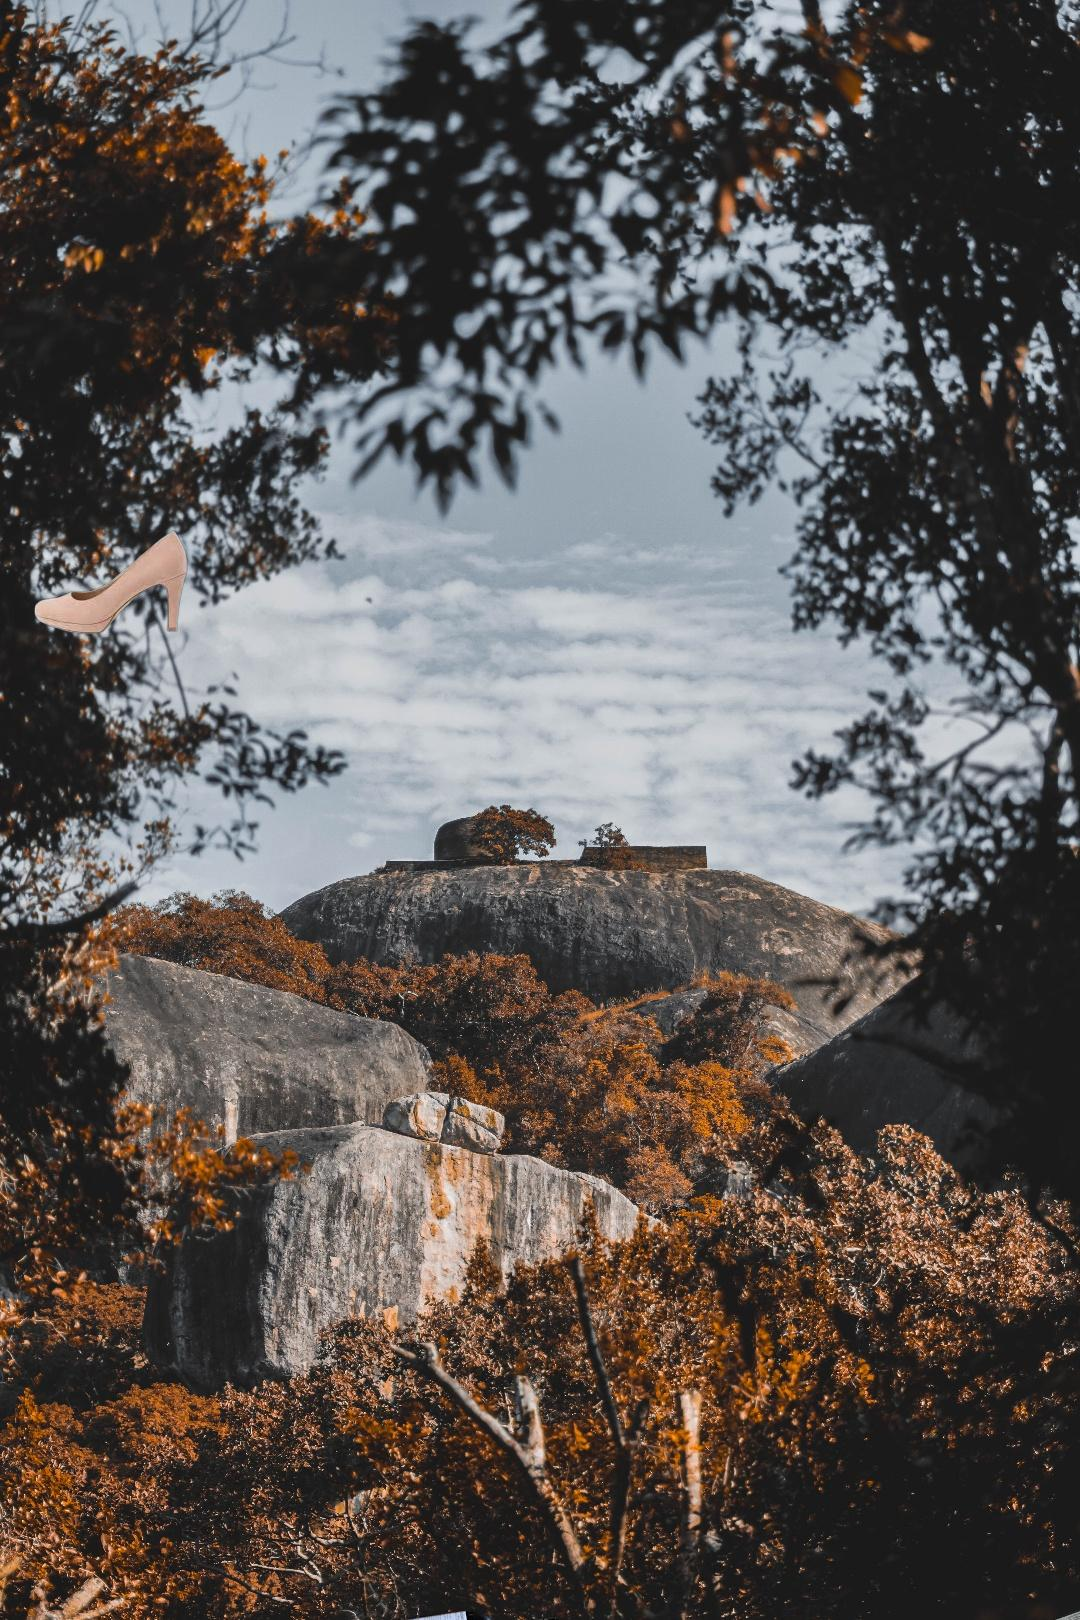battery: (881, 1607, 1080, 1620)
glass: (339, 1604, 568, 1620)
shoes: (31, 528, 190, 636)
